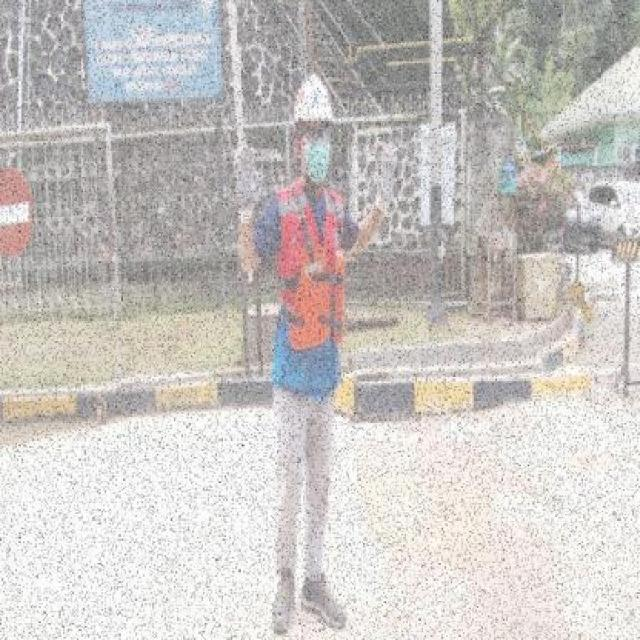Gloves: (231, 144, 264, 225), (374, 143, 398, 217)
Helmet: (291, 73, 337, 122)
Mask: (303, 143, 332, 182)
Protective Glasses: (300, 127, 332, 142)
Vest: (272, 188, 348, 352)
